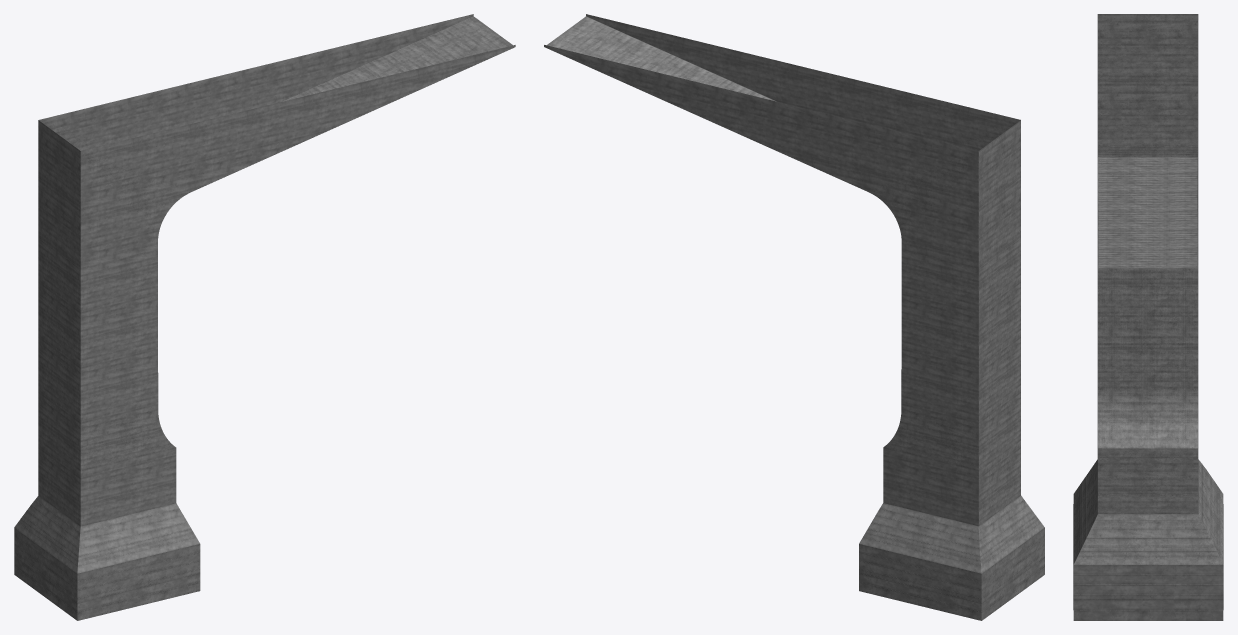
Rendered from SM_Side_Pillar_01.fbx.
The picture shows the model from 3 angles, left to right: view 1: azimuth 30°, elevation 25°; view 2: azimuth 150°, elevation 25°; view 3: azimuth 270°, elevation 25°; orthographic projection. The views are drawn at different scales.
Parts seen in each view (by area): view 1: SM_Side_Pillar_01; view 2: SM_Side_Pillar_01; view 3: SM_Side_Pillar_01.
Boxes of the visible parts, bbox=[...] form: SM_Side_Pillar_01: bbox=[14, 14, 515, 620]; SM_Side_Pillar_01: bbox=[544, 14, 1044, 620]; SM_Side_Pillar_01: bbox=[1073, 14, 1223, 620].
Bounding box in the file's own units: 1645 × 1608 × 402.
